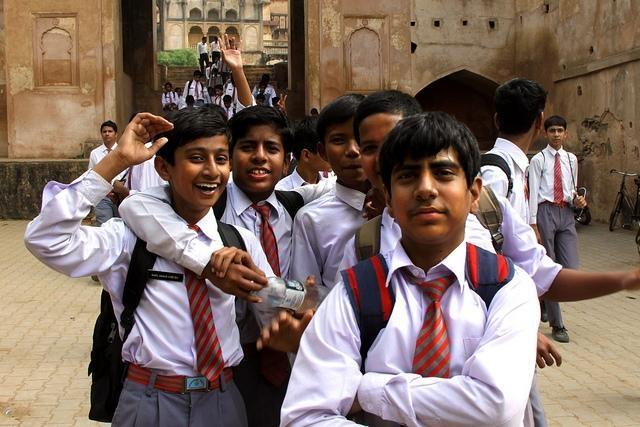bicycle: (608, 168, 640, 233)
